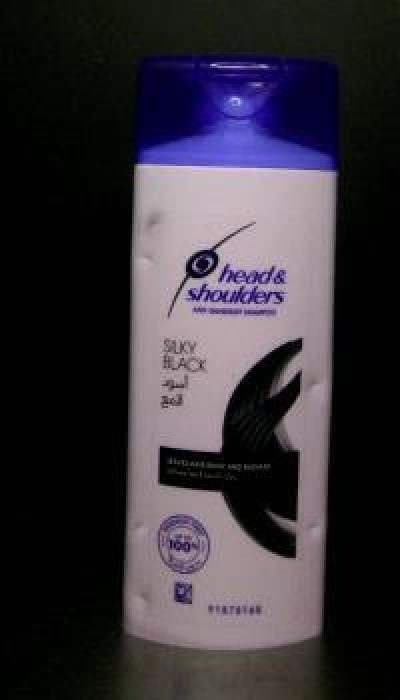dent_unacc: (134, 207, 168, 273), (128, 584, 166, 622), (303, 364, 327, 406), (301, 506, 325, 548), (130, 516, 150, 546)
